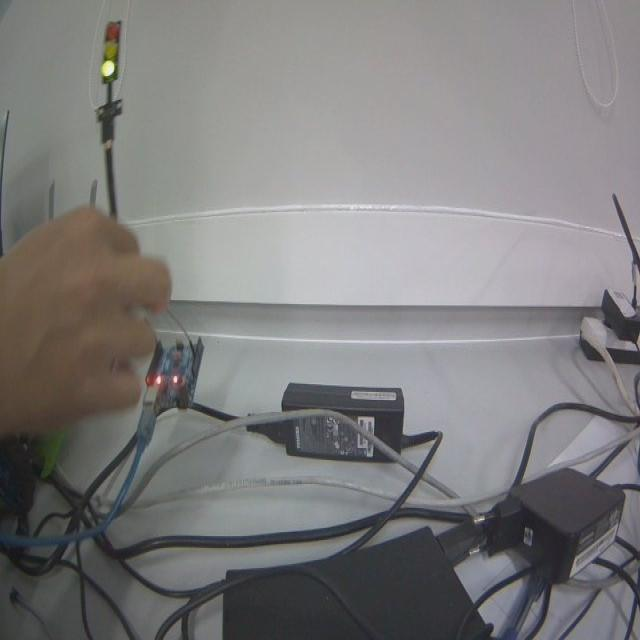Lampu Hijau: (101, 20, 120, 80)
